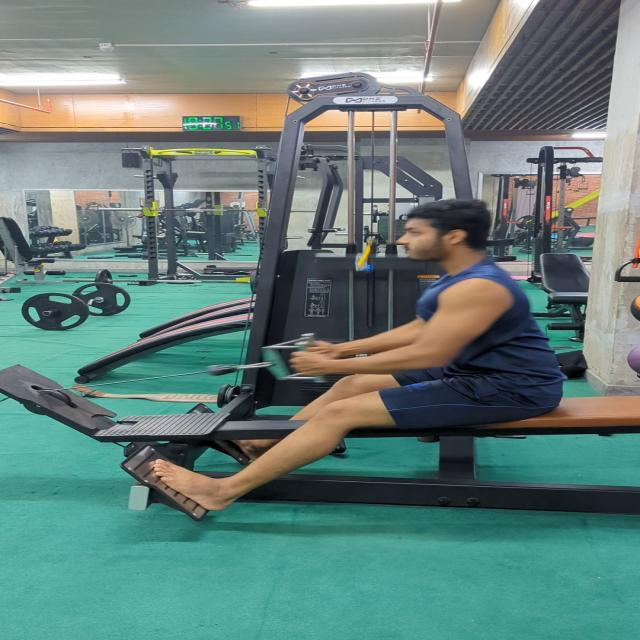Normal_RowingMachineExercise: (147, 194, 567, 516)
